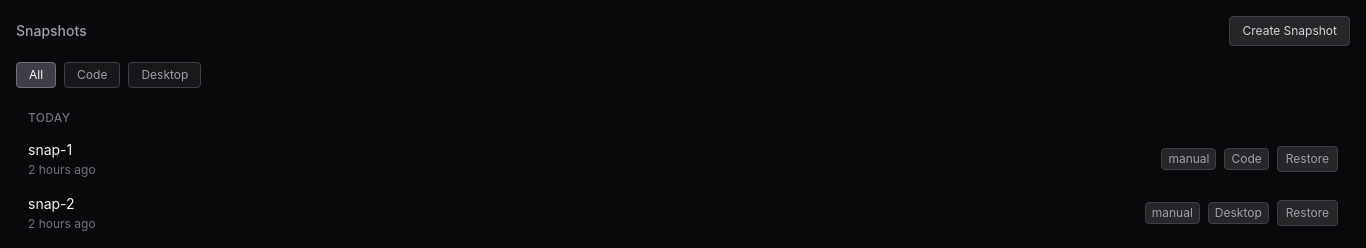
Test: SnapshotsView › filter tab 'Code' filters to code snapshots only
What coordinates should you click on to do the following:
click the button "Code"
I would click on:
 (92, 75)
Its box is [64,62,120,88].
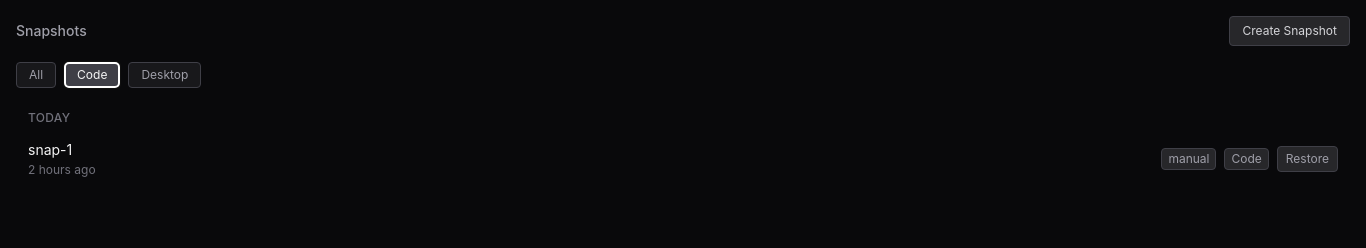
Expected: the text "snap-1" is shown, [28,141,72,158]
Expected: the text "snap-2" is gone
